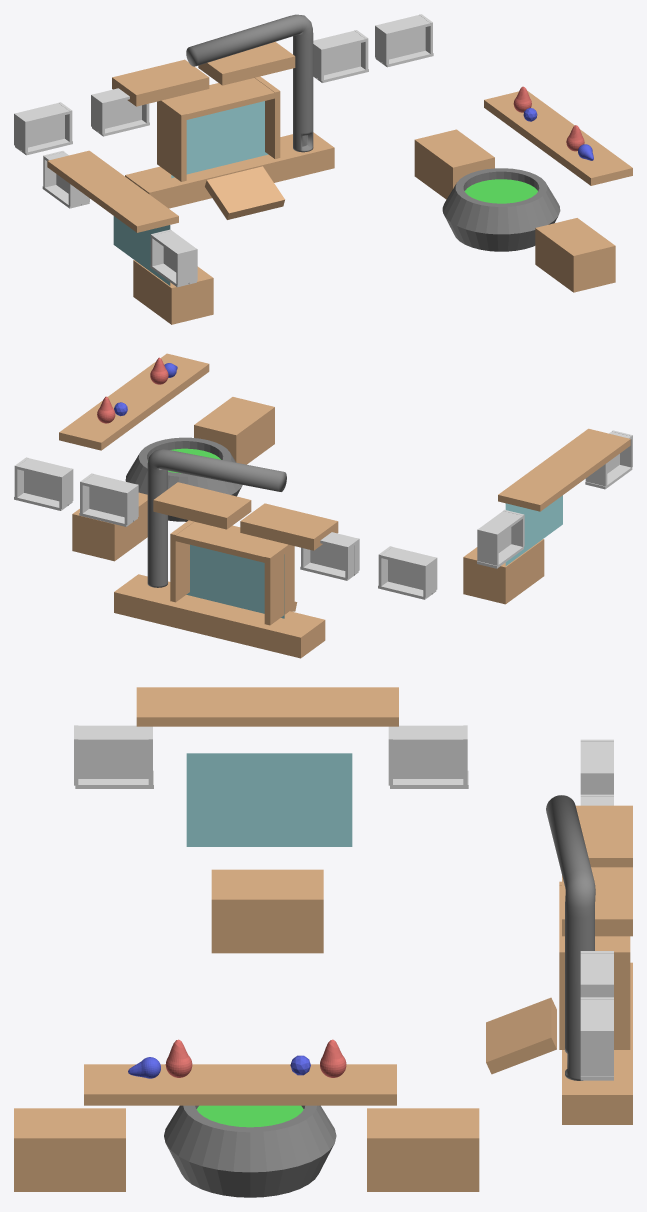
The model's file is M_Blockout01.fbx.
3 views of the same model, one above another, from view 1: azimuth 30°, elevation 25°; view 2: azimuth 150°, elevation 25°; view 3: azimuth 270°, elevation 25° (orthographic). The views are drawn at different scales.
Parts seen in each view (by area): view 1: Group.006|Cylinder|Dupli|17, Group.006|Cylinder.001|Dupli|5, Group.006|Cube|Dupli|, Group.006|Cube.011|Dupli|12, Group.006|Cube.015|Dupli|24, Group.006|Cube.012|Dupli|18, Group.006|Plane|Dupli|4, Group.006|Cube.013|Dupli|19, Group.006|Cube.014|Dupli|20, Group.006|Cube.004|Dupli|6, Group.006|Cube.010|Dupli|11, Group.006|Cube.005|Dupli|7 (+16 smaller); view 2: Group.006|Cube|Dupli|, Group.006|Cylinder.001|Dupli|5, Group.006|Cube.011|Dupli|12, Group.006|Cube.015|Dupli|24, Group.006|Plane|Dupli|4, Group.006|Cube.012|Dupli|18, Group.006|Cube.014|Dupli|20, Group.006|Cube.005|Dupli|7, Group.006|Cube.004|Dupli|6, Group.006|Cylinder|Dupli|17, Group.006|Cube.013|Dupli|19, Group.006|Cube.002|Dupli|2 (+20 smaller); view 3: Group.006|Plane.002|Dupli|21, Group.006|Cylinder|Dupli|17, Group.006|Cube.011|Dupli|12, Group.006|Cube.015|Dupli|24, Group.006|Cube.014|Dupli|20, Group.006|Cube.013|Dupli|19, Group.006|Cube.012|Dupli|18, Group.006|Cylinder.001|Dupli|5, Group.006|Cube|Dupli|, Group.006|Cube.010|Dupli|11, Group.006|Cube.004|Dupli|6, Group.006|Cube.005|Dupli|7 (+14 smaller).
Boxes of the visible parts, bbox=[...] form: Group.006|Cylinder|Dupli|17: bbox=[442, 168, 560, 251]; Group.006|Cylinder.001|Dupli|5: bbox=[186, 14, 313, 152]; Group.006|Cube|Dupli|: bbox=[125, 132, 334, 208]; Group.006|Cube.011|Dupli|12: bbox=[484, 91, 632, 185]; Group.006|Cube.015|Dupli|24: bbox=[47, 150, 178, 232]; Group.006|Cube.012|Dupli|18: bbox=[535, 218, 615, 292]; Group.006|Plane|Dupli|4: bbox=[171, 101, 268, 178]; Group.006|Cube.013|Dupli|19: bbox=[414, 129, 494, 199]; Group.006|Cube.014|Dupli|20: bbox=[133, 260, 213, 324]; Group.006|Cube.004|Dupli|6: bbox=[112, 59, 209, 106]; Group.006|Cube.010|Dupli|11: bbox=[205, 166, 284, 219]; Group.006|Cube.005|Dupli|7: bbox=[198, 41, 295, 85]; Group.006|Cube|Dupli|: bbox=[114, 574, 325, 658]; Group.006|Cylinder.001|Dupli|5: bbox=[147, 449, 286, 587]; Group.006|Cube.011|Dupli|12: bbox=[59, 353, 209, 450]; Group.006|Cube.015|Dupli|24: bbox=[498, 428, 630, 511]; Group.006|Plane|Dupli|4: bbox=[186, 544, 284, 618]; Group.006|Cube.012|Dupli|18: bbox=[194, 397, 274, 464]; Group.006|Cube.014|Dupli|20: bbox=[463, 539, 544, 604]; Group.006|Cube.005|Dupli|7: bbox=[153, 482, 251, 529]; Group.006|Cube.004|Dupli|6: bbox=[240, 503, 338, 550]; Group.006|Cylinder|Dupli|17: bbox=[125, 437, 242, 521]; Group.006|Cube.013|Dupli|19: bbox=[72, 492, 147, 561]; Group.006|Cube.002|Dupli|2: bbox=[175, 521, 282, 562]; Group.006|Plane.002|Dupli|21: bbox=[186, 753, 352, 846]; Group.006|Cylinder|Dupli|17: bbox=[164, 1105, 336, 1197]; Group.006|Cube.011|Dupli|12: bbox=[84, 1064, 396, 1105]; Group.006|Cube.015|Dupli|24: bbox=[136, 687, 398, 726]; Group.006|Cube.014|Dupli|20: bbox=[211, 869, 323, 953]; Group.006|Cube.013|Dupli|19: bbox=[367, 1108, 479, 1191]; Group.006|Cube.012|Dupli|18: bbox=[14, 1108, 125, 1191]; Group.006|Cylinder.001|Dupli|5: bbox=[546, 795, 595, 1080]; Group.006|Cube|Dupli|: bbox=[562, 962, 632, 1124]; Group.006|Cube.010|Dupli|11: bbox=[486, 997, 556, 1074]; Group.006|Cube.004|Dupli|6: bbox=[575, 805, 632, 867]; Group.006|Cube.005|Dupli|7: bbox=[562, 867, 632, 936].
Bounding box in the file's own units: 2277 × 721 × 1745.
